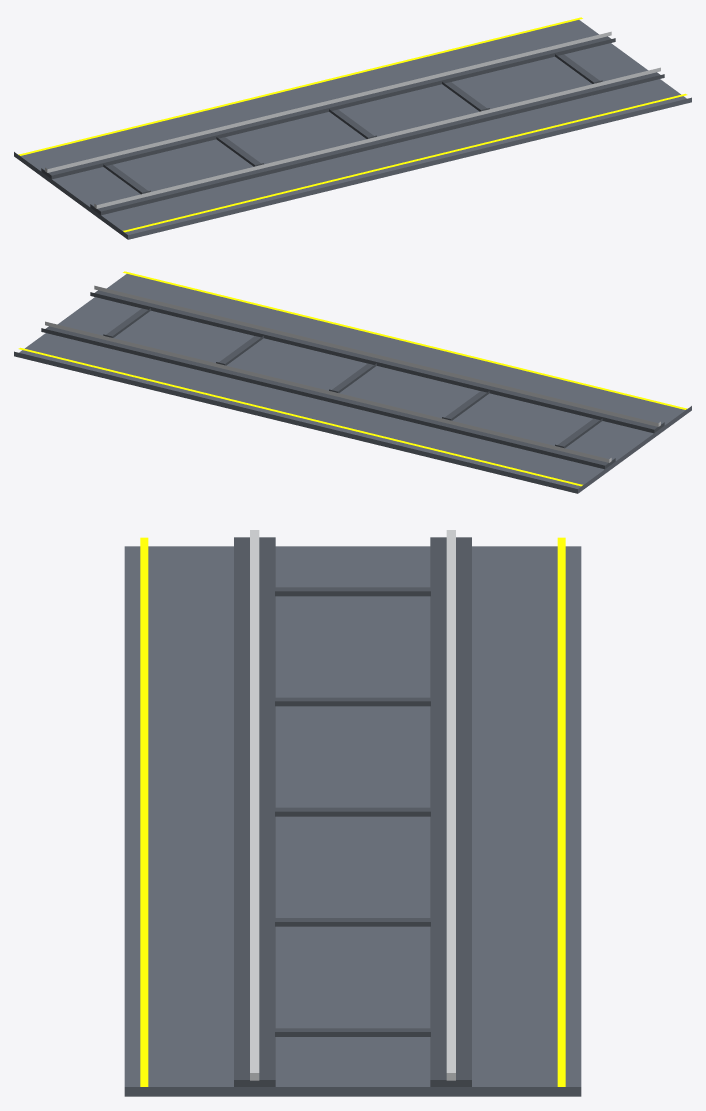
File: ext_tram_rail_module_04.glb
3 views of the same model, one above another, from view 1: azimuth 30°, elevation 25°; view 2: azimuth 150°, elevation 25°; view 3: azimuth 270°, elevation 25° (orthographic). The views are drawn at different scales.
Visible parts, largest first — view 1: Trough, Long_Beams, Rails, Edge_Stripes, Cross_Ties; view 2: Trough, Long_Beams, Rails, Edge_Stripes, Cross_Ties; view 3: Trough, Long_Beams, Rails, Edge_Stripes, Cross_Ties.
Boxes of the visible parts, <box> form: Trough: <box>14,20,691,239</box>; Long_Beams: <box>41,36,664,215</box>; Rails: <box>45,31,660,208</box>; Edge_Stripes: <box>18,17,687,232</box>; Cross_Ties: <box>103,54,602,194</box>; Trough: <box>14,274,691,493</box>; Long_Beams: <box>41,290,664,469</box>; Rails: <box>45,285,660,462</box>; Edge_Stripes: <box>18,271,687,486</box>; Cross_Ties: <box>103,308,602,448</box>; Trough: <box>124,546,581,1096</box>; Long_Beams: <box>234,537,471,1086</box>; Rails: <box>250,530,455,1080</box>; Edge_Stripes: <box>140,537,565,1086</box>; Cross_Ties: <box>275,587,430,1036</box>.
Bounding box in the file's own units: 9.99 × 0.2 × 3.5.
